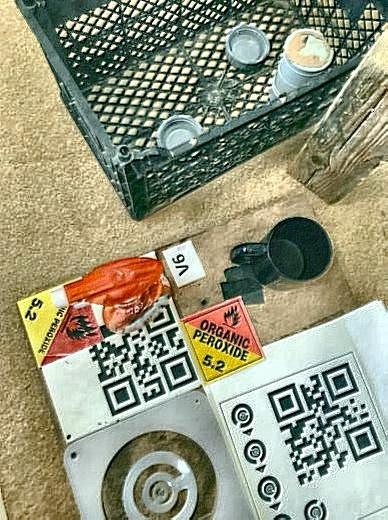organic-peroxide: (17, 277, 105, 370), (181, 295, 266, 386)
